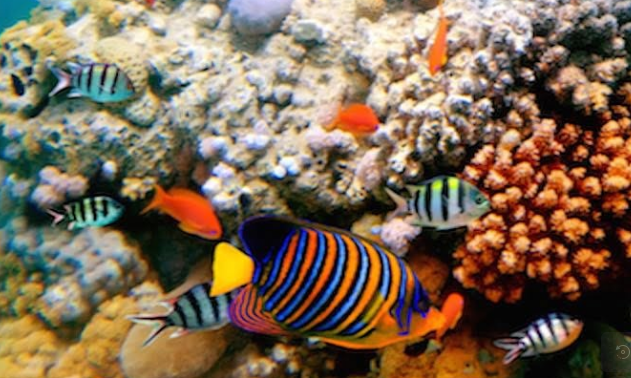fishRound: (210, 212, 447, 351), (128, 281, 231, 350), (383, 173, 493, 230), (495, 314, 584, 365), (46, 60, 136, 103), (46, 194, 123, 231)
fishSmall: (138, 180, 221, 240)
